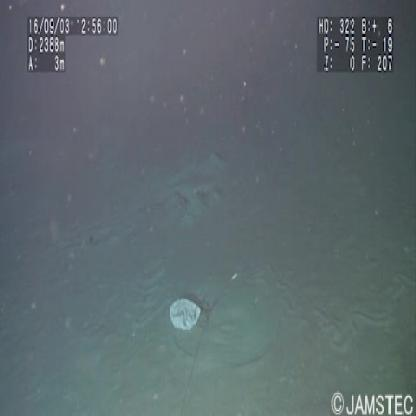Rác: (166, 294, 210, 339)
